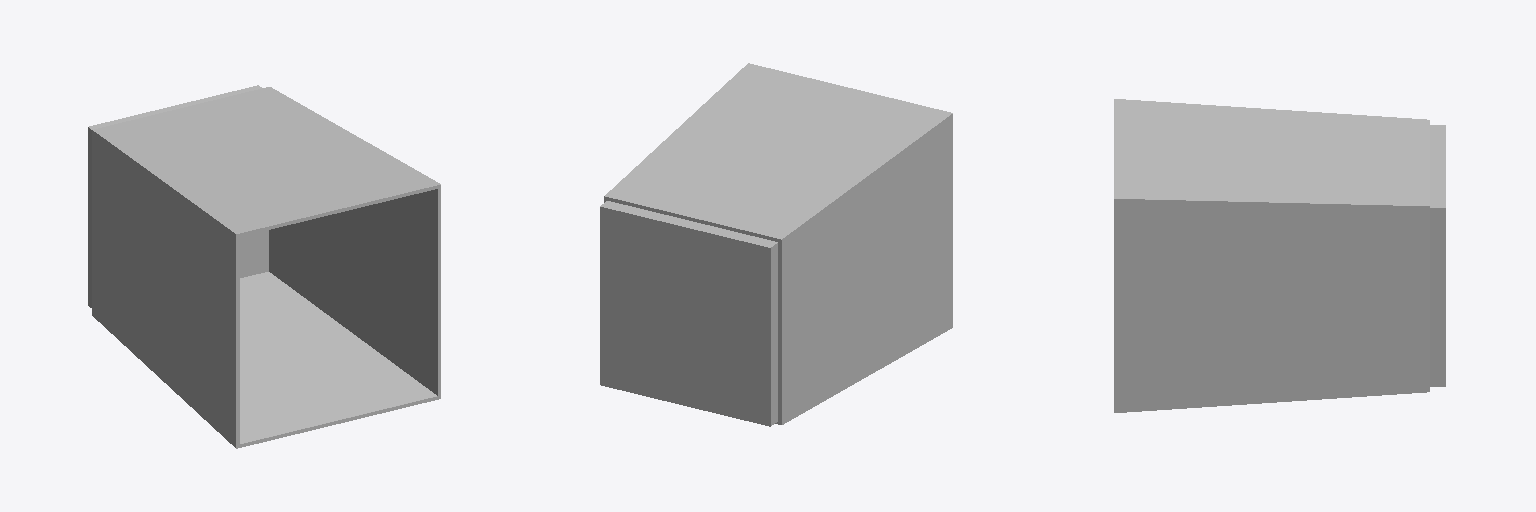
The model's file is Trash Can.obj.
3 views of the same model, side by side, from view 1: azimuth 30°, elevation 25°; view 2: azimuth 150°, elevation 25°; view 3: azimuth 270°, elevation 25° (orthographic).
Visible parts, largest first — view 1: obj_0.001; view 2: obj_0.001; view 3: obj_0.001.
Boxes of the visible parts, x1=… form: obj_0.001: x1=88, y1=85, x2=440, y2=448; obj_0.001: x1=600, y1=63, x2=952, y2=426; obj_0.001: x1=1114, y1=99, x2=1445, y2=412.
Bounding box in the file's own units: 30 × 30 × 42.